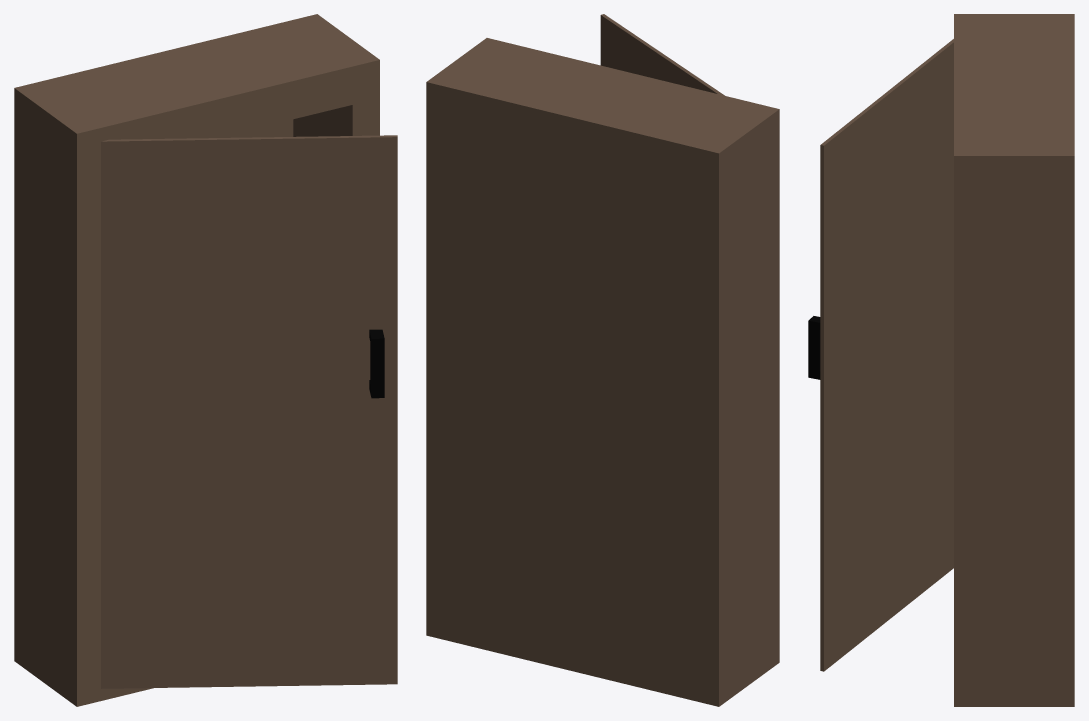
File: Cupboard.fbx
3 renders of one model, left to right at view 1: azimuth 30°, elevation 25°; view 2: azimuth 150°, elevation 25°; view 3: azimuth 270°, elevation 25°, orthographic. The views are drawn at different scales.
Visible parts, largest first — view 1: pCube5; view 2: pCube5; view 3: pCube5.
Part boxes in pixels (x1,y1,x2,y2): pCube5: (14,14,397,706); pCube5: (426,14,779,706); pCube5: (808,14,1074,706).
Bounding box in the file's own units: 1.99 × 3.6 × 1.58.
